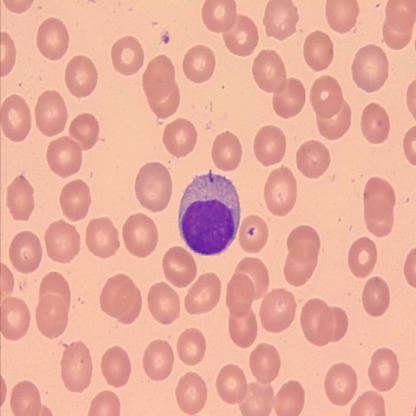Lymphocyte: (178, 171, 242, 256)
